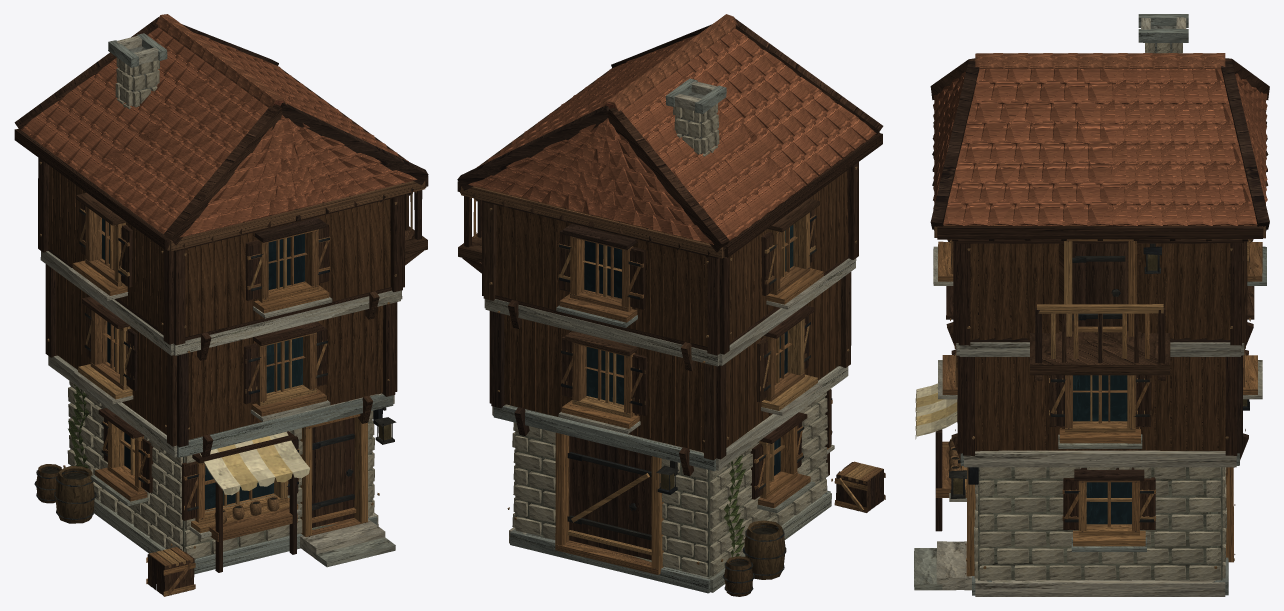
The model's file is 02_host.glb.
The picture shows the model from 3 angles, left to right: view 1: azimuth 30°, elevation 25°; view 2: azimuth 150°, elevation 25°; view 3: azimuth 270°, elevation 25°; orthographic projection. The views are drawn at different scales.
Parts seen in each view (by area): view 1: 02_host; view 2: 02_host; view 3: 02_host.
Part boxes in pixels (left/top/right/bottom): 02_host: left=14, top=14, right=428, bottom=596; 02_host: left=457, top=14, right=885, bottom=596; 02_host: left=914, top=14, right=1269, bottom=596.
Bounding box in the file's own units: 4.3 × 6 × 3.93.
8 materials, 8 textured.
